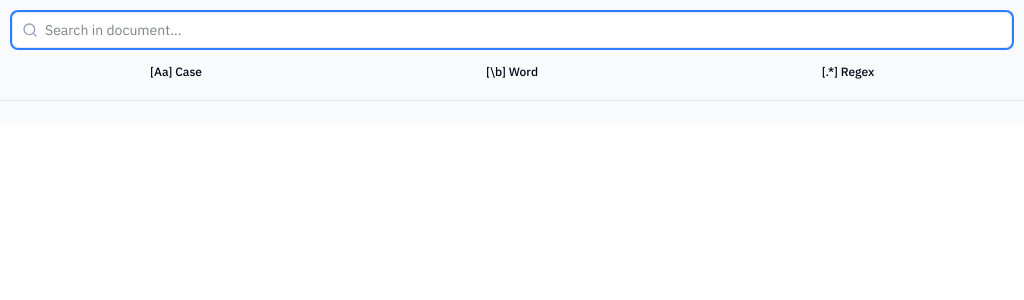
SearchPanel incremental active revision indexing › publishes partial hits while background indexing remains incomplete
Type "needle" into the field with placeholder "Search in document..." at (512, 30), box [12,12,1012,48]
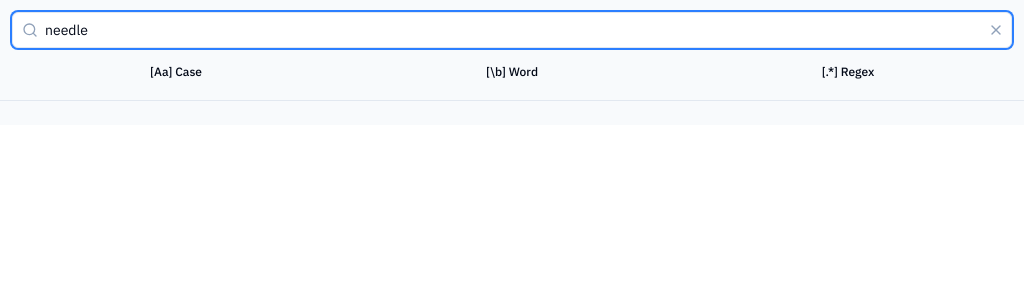
Press Enter in the field with placeholder "Search in document...", box [12,12,1012,48]
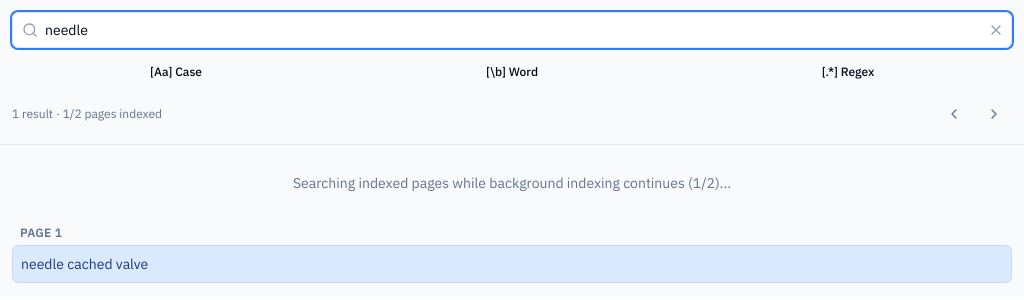
Check: the button "needle cached valve" is shown, box [12,245,1012,283]
Check: the text "1 result · 1/2 pages indexed" is shown, box [12,106,162,122]
Check: the text "background indexing continues" is shown, box [293,174,693,192]
